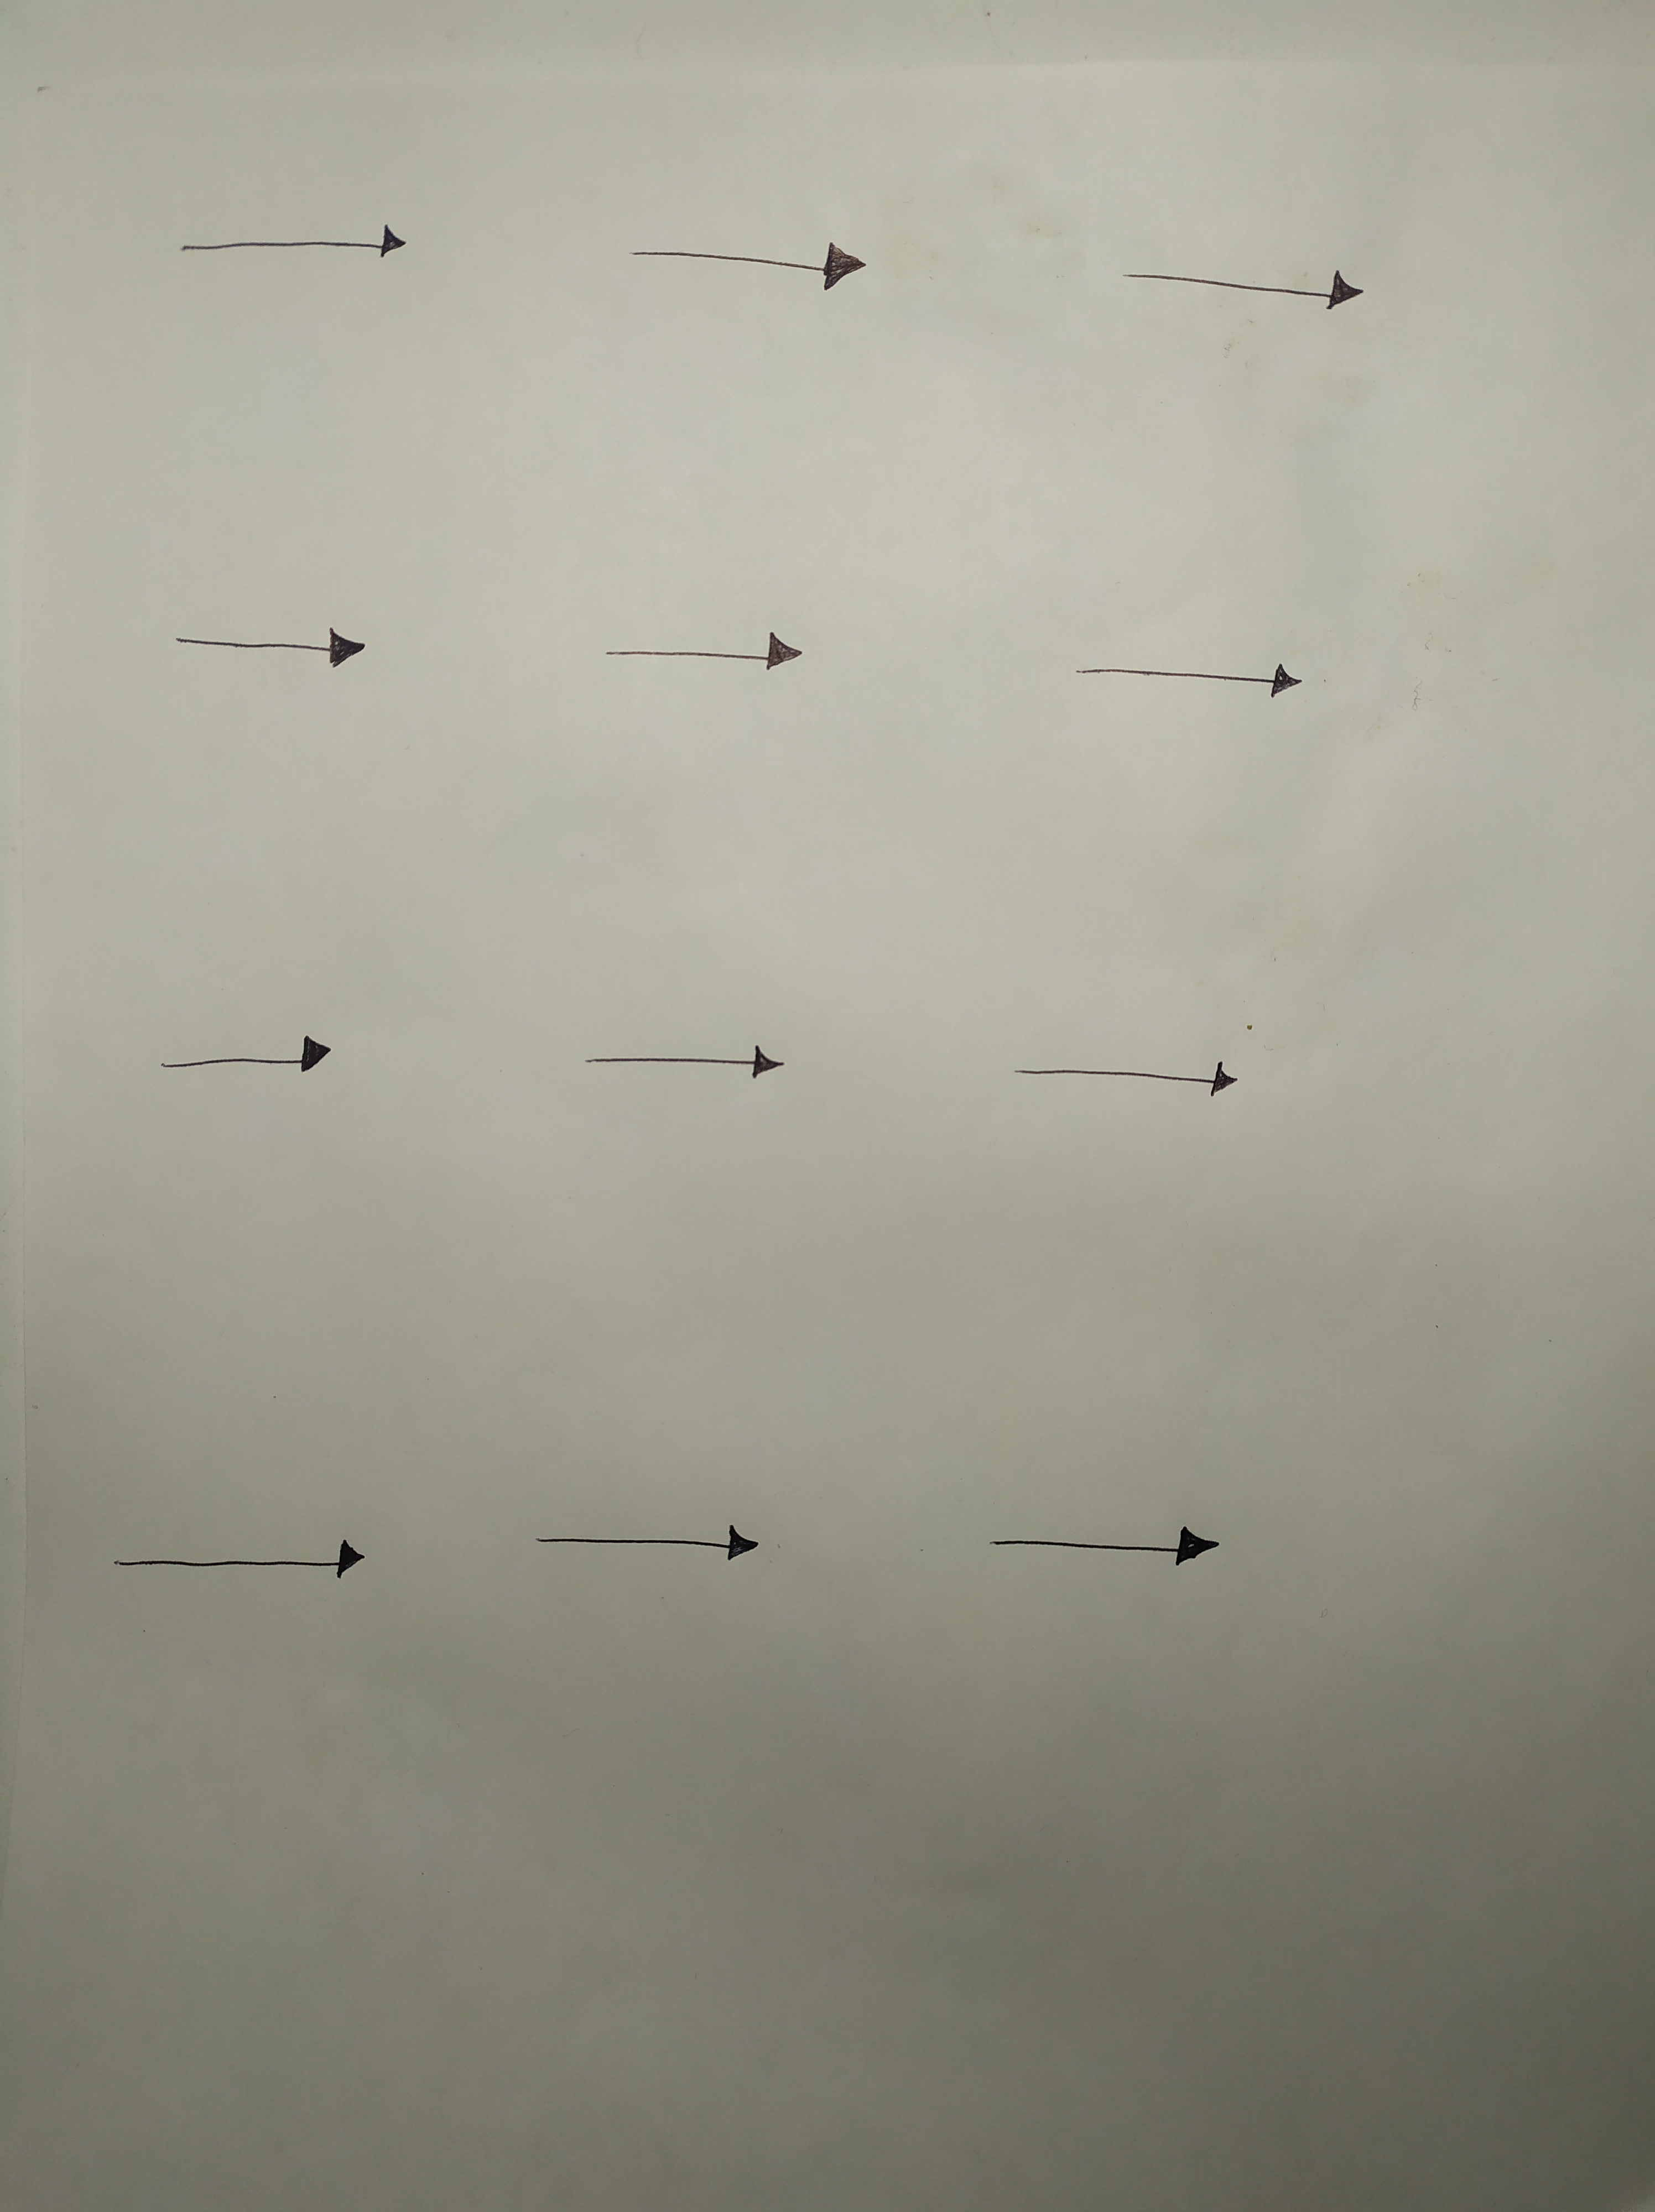arrow_line_right: (1085, 226, 1405, 334), (960, 1493, 1259, 1595), (92, 1515, 402, 1613), (614, 212, 911, 313), (141, 193, 449, 283), (151, 601, 395, 686), (1038, 641, 1318, 714), (556, 1027, 821, 1098), (525, 1512, 788, 1583), (563, 613, 824, 685), (991, 1039, 1255, 1105), (151, 1020, 339, 1093)
